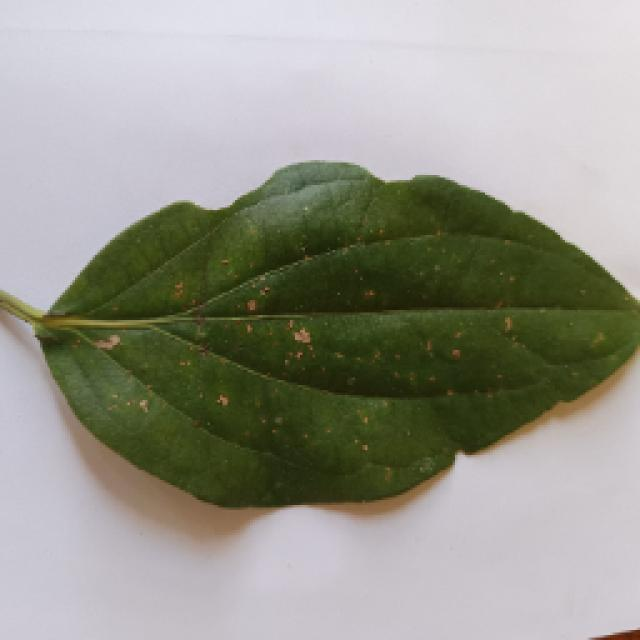pollu-disease: (10, 165, 632, 503)
